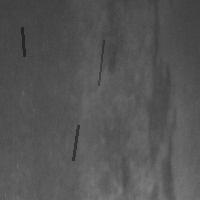inclusion: (144, 1, 178, 198), (95, 120, 138, 198), (98, 1, 127, 77), (96, 38, 105, 87), (71, 123, 80, 162), (20, 25, 26, 58)
